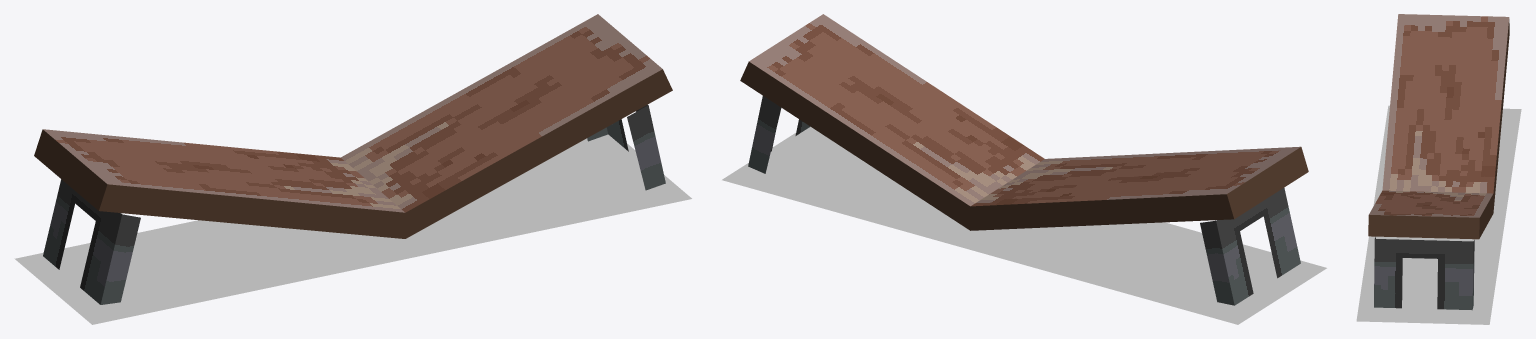
Rendered from d1disk01.dae.
3 renders of one model, left to right at view 1: azimuth 30°, elevation 25°; view 2: azimuth 150°, elevation 25°; view 3: azimuth 270°, elevation 25°, orthographic. The views are drawn at different scales.
Parts seen in each view (by area): view 1: d1disk01; view 2: d1disk01; view 3: d1disk01.
Boxes of the visible parts, left/top/right/bottom form: d1disk01: left=14, top=14, right=691, bottom=324; d1disk01: left=722, top=14, right=1326, bottom=324; d1disk01: left=1356, top=14, right=1521, bottom=324.
Size of the model in its own units: 46.66 by 9.89 by 14.84.
